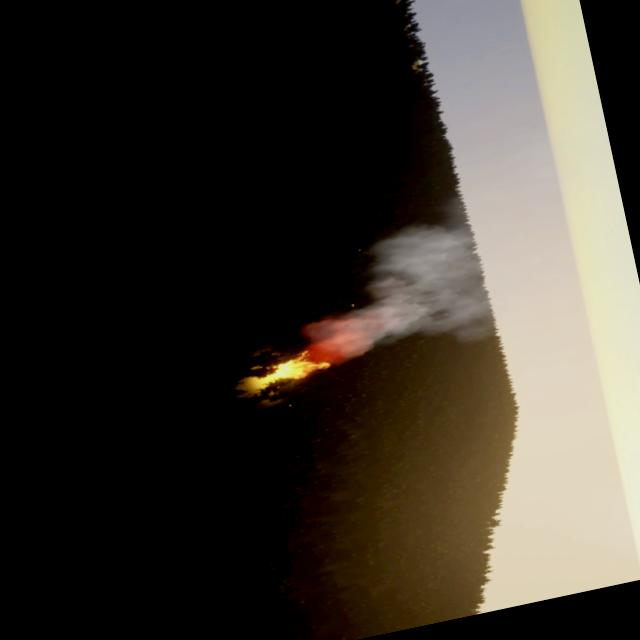fire: (256, 346, 331, 390)
smoke: (296, 214, 508, 373)
